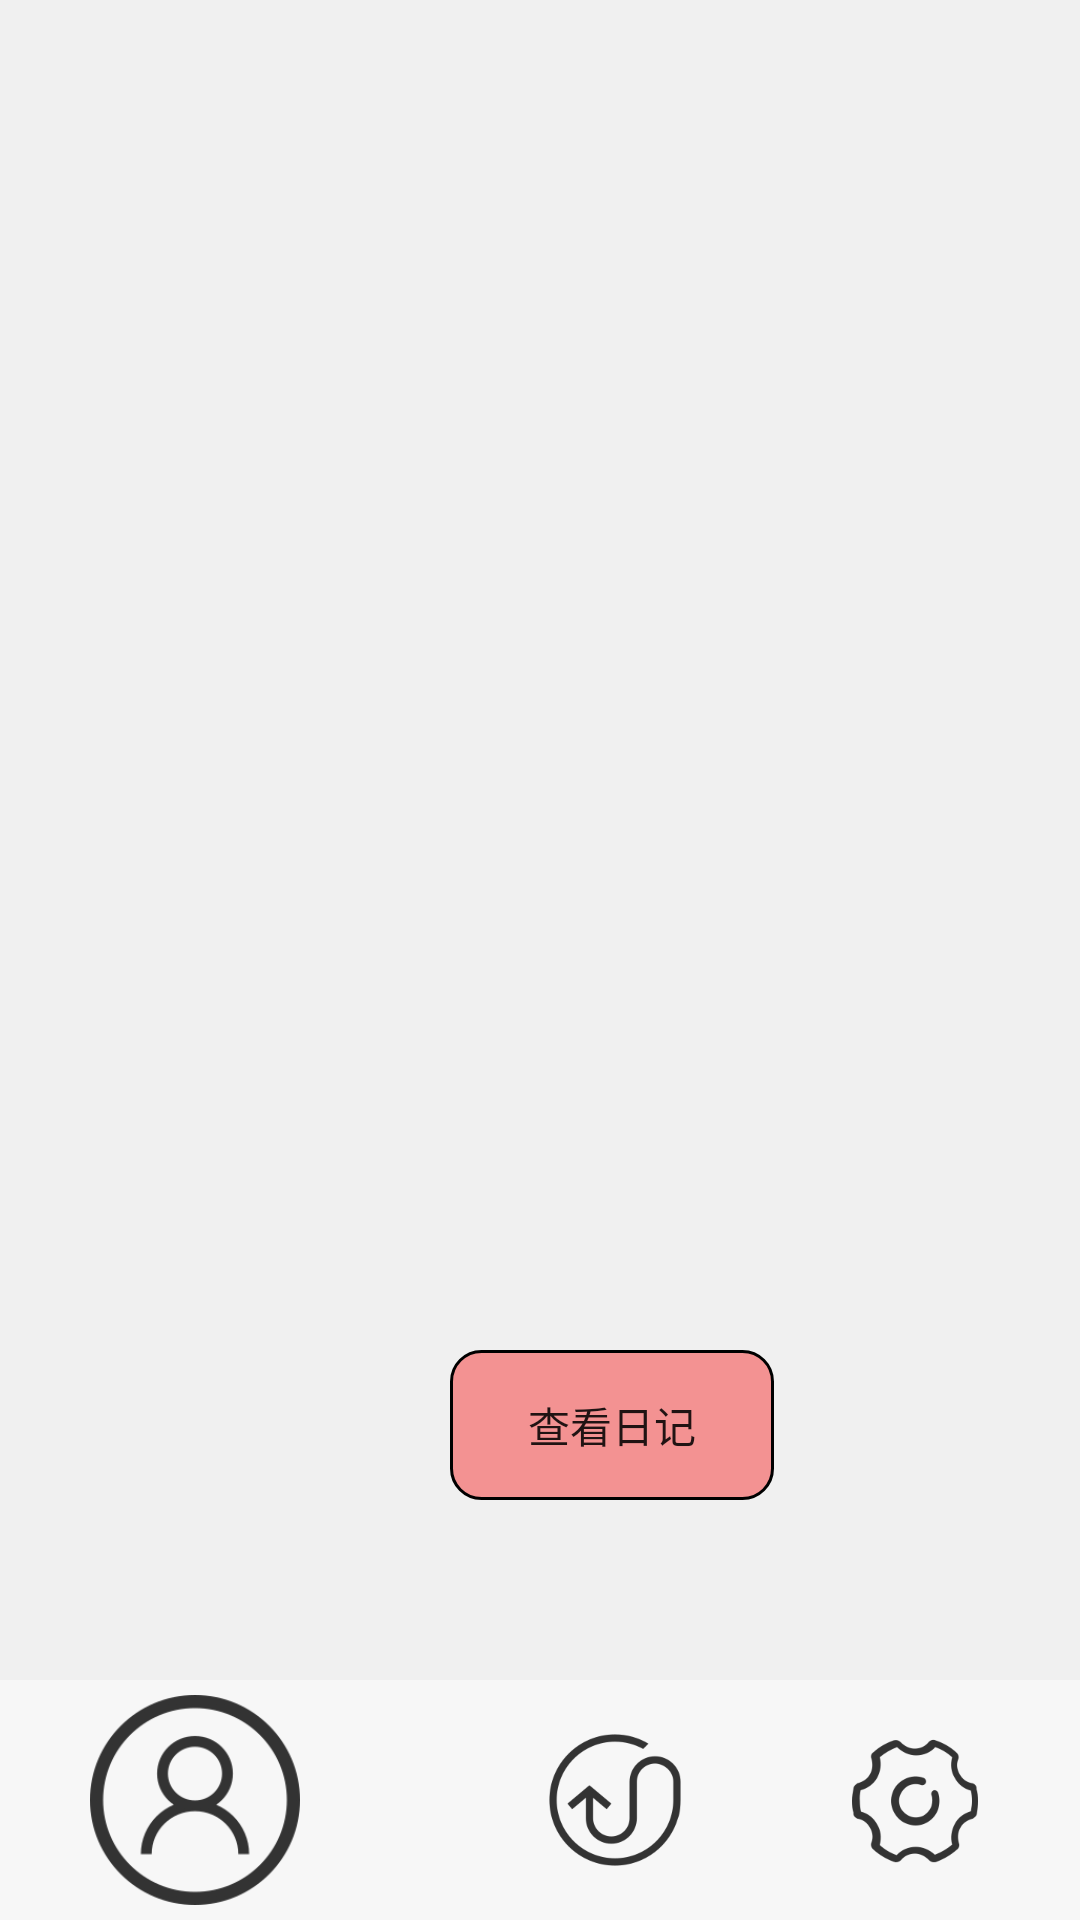

Icon bounding boxes for this 1080*1920 phone screenshot, format box(x1, y1, x2, y2):
geren: box(90, 1695, 300, 1905)
luxian: box(549, 1734, 681, 1866)
shezhi: box(852, 1740, 978, 1863)
